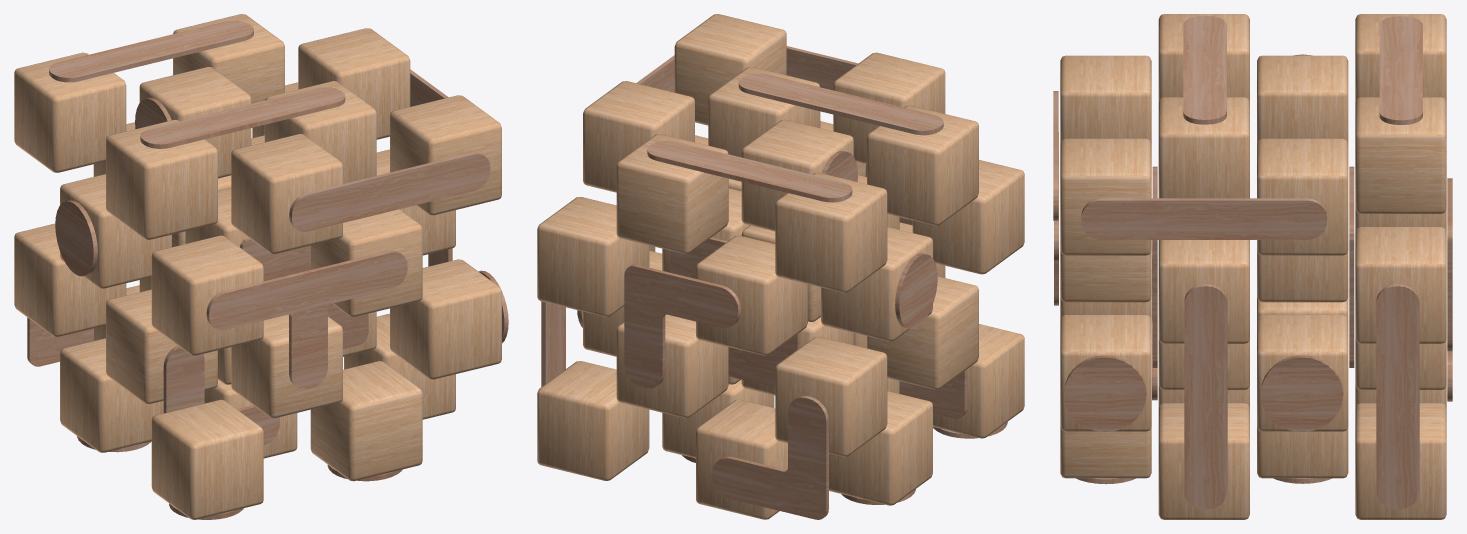
File: level_61.fbx
3 renders of one model, left to right at view 1: azimuth 30°, elevation 25°; view 2: azimuth 150°, elevation 25°; view 3: azimuth 270°, elevation 25°, orthographic. The views are drawn at different scales.
Visible parts, largest first — view 1: Cube.051, obj_obs_T.001, Cube.049, Cube.054, Cube.031, Cube.047, Cube.064, Cube.059, Cube.062, obj_obs_Y.001, Cube.002, Cube.039 (+21 smaller); view 2: Cube.034, Cube.047, Cube.031, Cube.045, Cube.042, Cube.039, Cube.044, obj_obs_L.001, obj_obs_L.002, Cube.002, Cube.014, Cube.059 (+23 smaller); view 3: obj_obs_Y.002, Cube.045, obj_obs_Y.004, obj_obs_Y.003, Cube.042, Cube.029, Cube.014, Cube.062, Cube.016, Cube.064, Cube.026, Cube.034 (+25 smaller).
Boxes of the visible parts, x1,y1,x2,y2 form: Cube.051: [151, 399, 263, 519]; obj_obs_T.001: [206, 250, 407, 389]; Cube.049: [310, 361, 422, 481]; Cube.054: [390, 259, 501, 379]; Cube.031: [106, 120, 217, 239]; Cube.047: [14, 52, 126, 172]; Cube.064: [231, 134, 342, 253]; Cube.059: [151, 235, 263, 355]; Cube.062: [390, 95, 501, 215]; obj_obs_Y.001: [289, 152, 490, 231]; Cube.002: [60, 338, 163, 452]; Cube.039: [14, 223, 126, 336]; Cube.034: [537, 361, 649, 480]; Cube.047: [775, 172, 887, 292]; Cube.031: [867, 105, 978, 225]; Cube.045: [616, 134, 728, 253]; Cube.042: [537, 197, 649, 316]; Cube.039: [775, 336, 887, 456]; Cube.044: [696, 235, 807, 355]; obj_obs_L.001: [624, 264, 740, 388]; obj_obs_L.002: [712, 395, 828, 519]; Cube.002: [829, 391, 932, 505]; Cube.014: [583, 81, 694, 192]; Cube.059: [912, 160, 1024, 274]; obj_obs_Y.002: [1081, 198, 1327, 239]; Cube.045: [1355, 97, 1446, 213]; obj_obs_Y.004: [1376, 284, 1419, 509]; obj_obs_Y.003: [1184, 284, 1227, 509]; Cube.042: [1355, 227, 1446, 343]; Cube.029: [1158, 97, 1249, 198]; Cube.014: [1257, 138, 1348, 255]; Cube.062: [1060, 138, 1151, 255]; Cube.016: [1257, 55, 1348, 143]; Cube.064: [1060, 55, 1151, 143]; Cube.026: [1158, 240, 1249, 343]; Cube.034: [1355, 403, 1446, 519].
Bounding box in the file's own units: 8.54 × 8.45 × 8.52.
